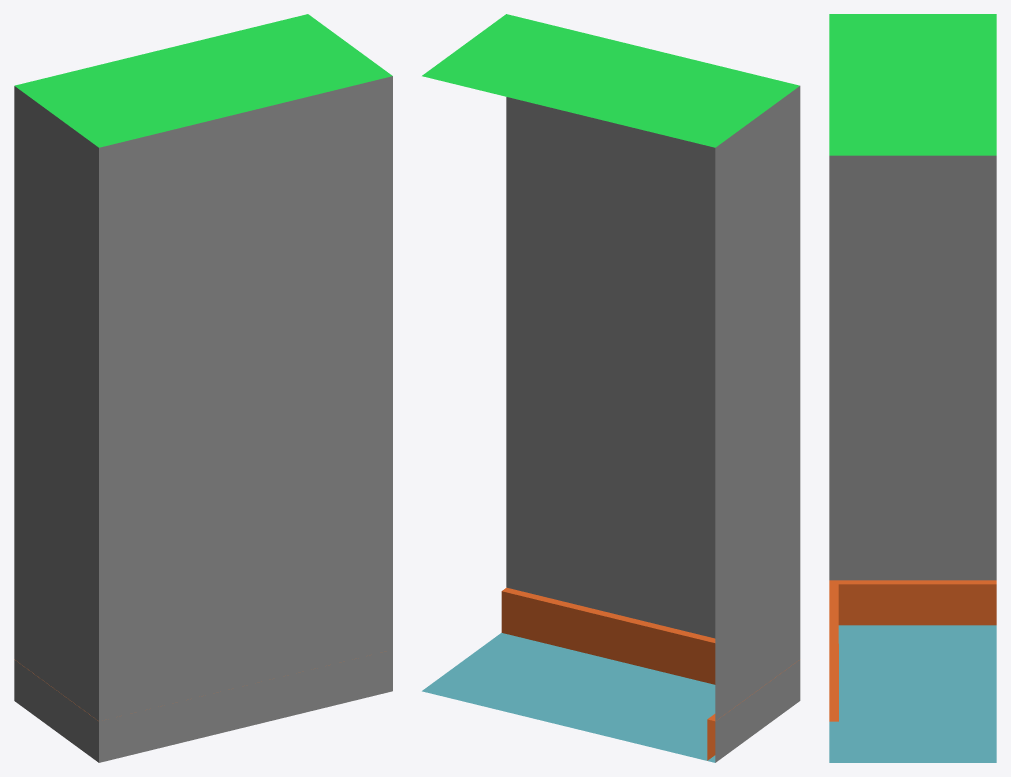
The model's file is ModuleB_corner2.FBX.
The picture shows the model from 3 angles, left to right: view 1: azimuth 30°, elevation 25°; view 2: azimuth 150°, elevation 25°; view 3: azimuth 270°, elevation 25°; orthographic projection.
Visible parts, largest first — view 1: ModuleB_wall_012, ModuleB_roof_017; view 2: ModuleB_wall_012, ModuleB_roof_017, ModuleB_floor_016, ModuleB_skboard_015; view 3: ModuleB_wall_012, ModuleB_roof_017, ModuleB_floor_016, ModuleB_skboard_015.
Boxes of the visible parts, x1,y1,x2,y2 form: ModuleB_wall_012: (14, 76, 392, 762); ModuleB_roof_017: (14, 14, 392, 147); ModuleB_wall_012: (506, 86, 800, 762); ModuleB_roof_017: (422, 14, 799, 147); ModuleB_floor_016: (422, 633, 715, 762); ModuleB_skboard_015: (501, 587, 798, 760); ModuleB_wall_012: (829, 155, 996, 580); ModuleB_roof_017: (829, 14, 996, 155); ModuleB_floor_016: (829, 625, 996, 762); ModuleB_skboard_015: (829, 580, 996, 721).
Bounding box in the file's own units: 39.4 × 19.7 × 78.74.
